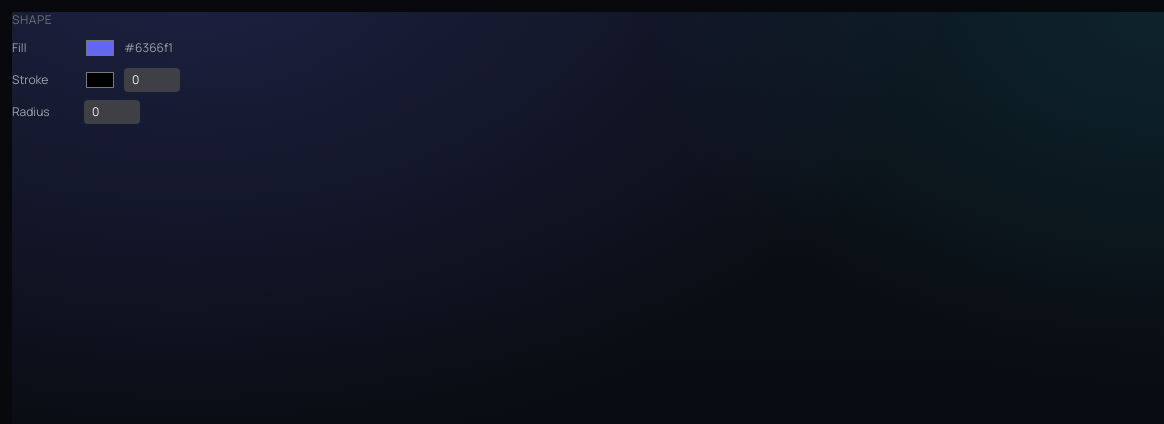
Test: ShapeControls › updates shape style when fill color changes
The image size is (1164, 424).
Step 1. Type "#ff0000" into the colour field with test id "shape-fill-color" → coordinates (100, 48), box [84,36,116,60]
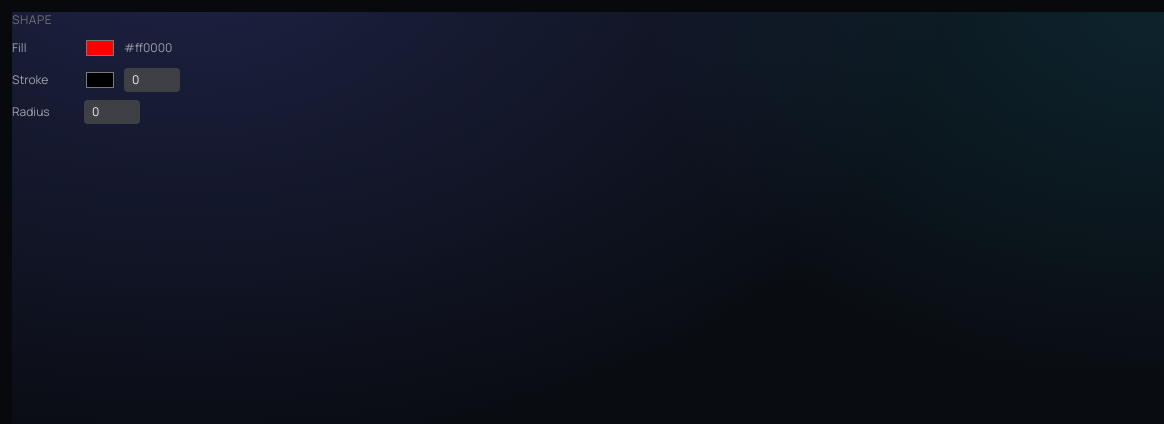
Expected: the text "#ff0000" is shown, [124,40,172,56]
